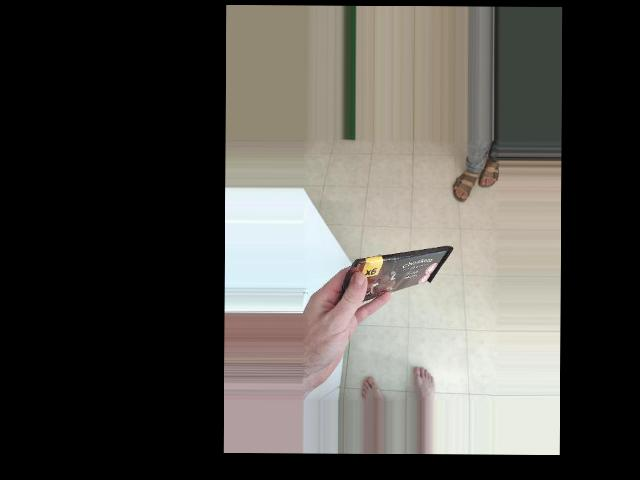chocolate: (329, 240, 458, 316)
